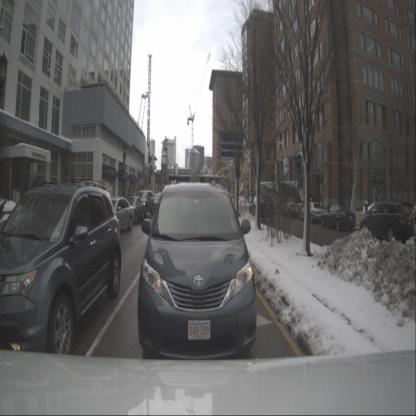vehicle-car: (136, 182, 258, 365), (0, 186, 122, 361), (98, 197, 134, 231), (321, 204, 356, 231), (249, 195, 275, 223), (122, 196, 146, 225), (133, 190, 154, 218), (298, 202, 325, 223), (280, 197, 302, 218), (152, 194, 162, 212)
vehicle-truck: (360, 201, 414, 242)
